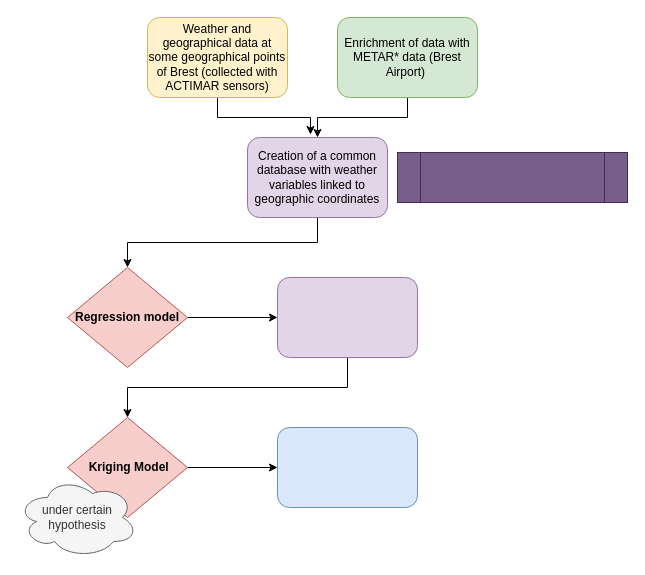
This 645x575 diagram has some shape labels left out. Each missing label, with the box of its shape:
Addition of variables related to the environment: land VS sea: (396, 152, 628, 202)
Extend the prediction to any given point: (276, 426, 418, 508)
Prediction of land and sea mist: (276, 276, 418, 358)
